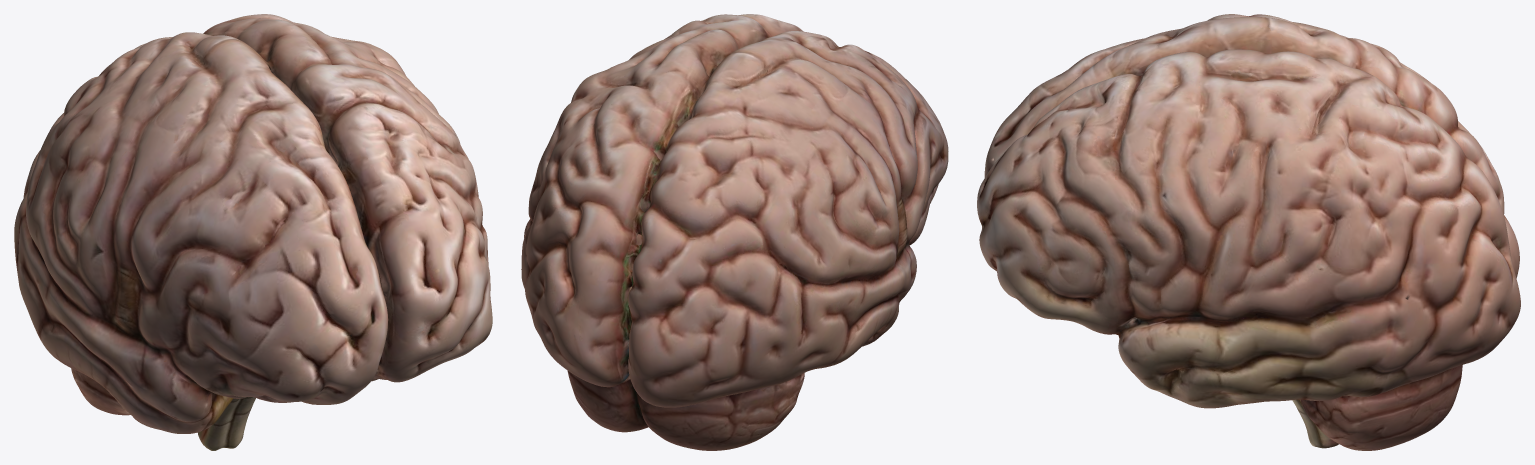
Rendered from growdash-brain.glb.
The picture shows the model from 3 angles, left to right: view 1: azimuth 30°, elevation 25°; view 2: azimuth 150°, elevation 25°; view 3: azimuth 270°, elevation 25°; orthographic projection. The views are drawn at different scales.
Visible parts, largest first — view 1: Mesh_0_Material_0.001_0; view 2: Mesh_0_Material_0.001_0; view 3: Mesh_0_Material_0.001_0.
Boxes of the visible parts, x1,y1,x2,y2 form: Mesh_0_Material_0.001_0: (14,14,492,450); Mesh_0_Material_0.001_0: (521,14,948,450); Mesh_0_Material_0.001_0: (977,14,1520,450).
Size of the model in its own units: 1.51 by 1.67 by 2.
Materials: 1 (1 with a texture image).
